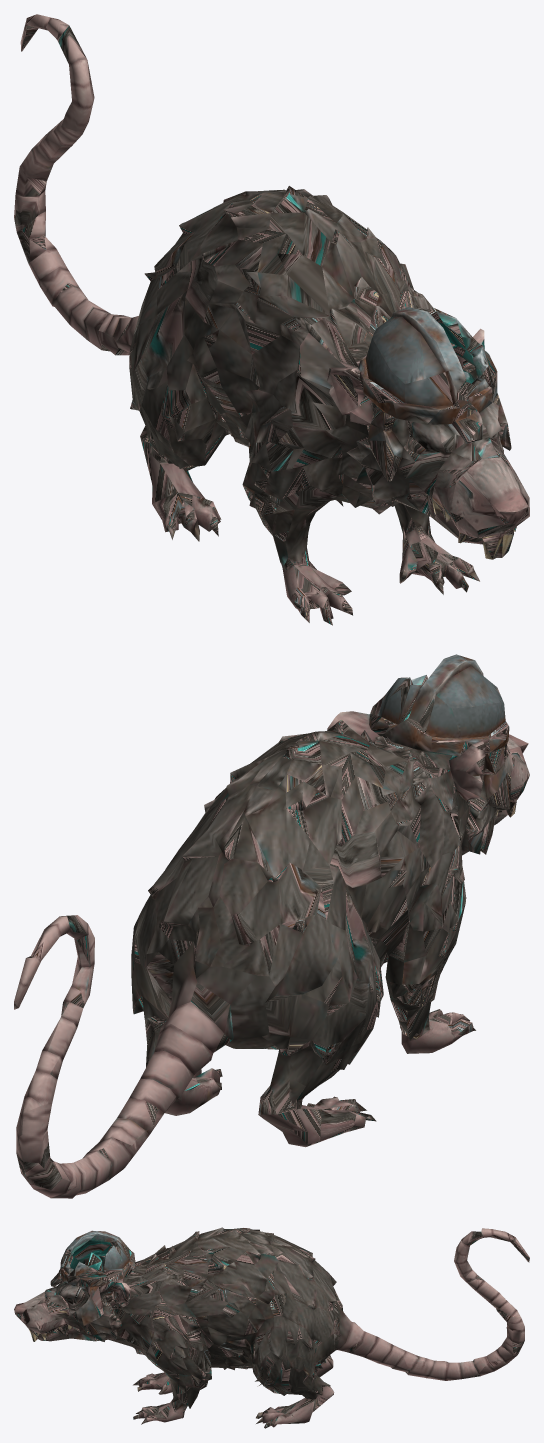
The model's file is warren_rat.glb.
3 renders of one model, top to bottom at view 1: azimuth 30°, elevation 25°; view 2: azimuth 150°, elevation 25°; view 3: azimuth 270°, elevation 25°, orthographic. The views are drawn at different scales.
Visible parts, largest first — view 1: Mesh_0; view 2: Mesh_0; view 3: Mesh_0.
Part boxes in pixels (x1,y1,x2,y2): Mesh_0: (14, 14, 529, 625); Mesh_0: (14, 654, 529, 1198); Mesh_0: (14, 1227, 529, 1428).
Size of the model in its own units: 0.4961 by 0.7119 by 1.9.
Materials: 1 (1 with a texture image).
